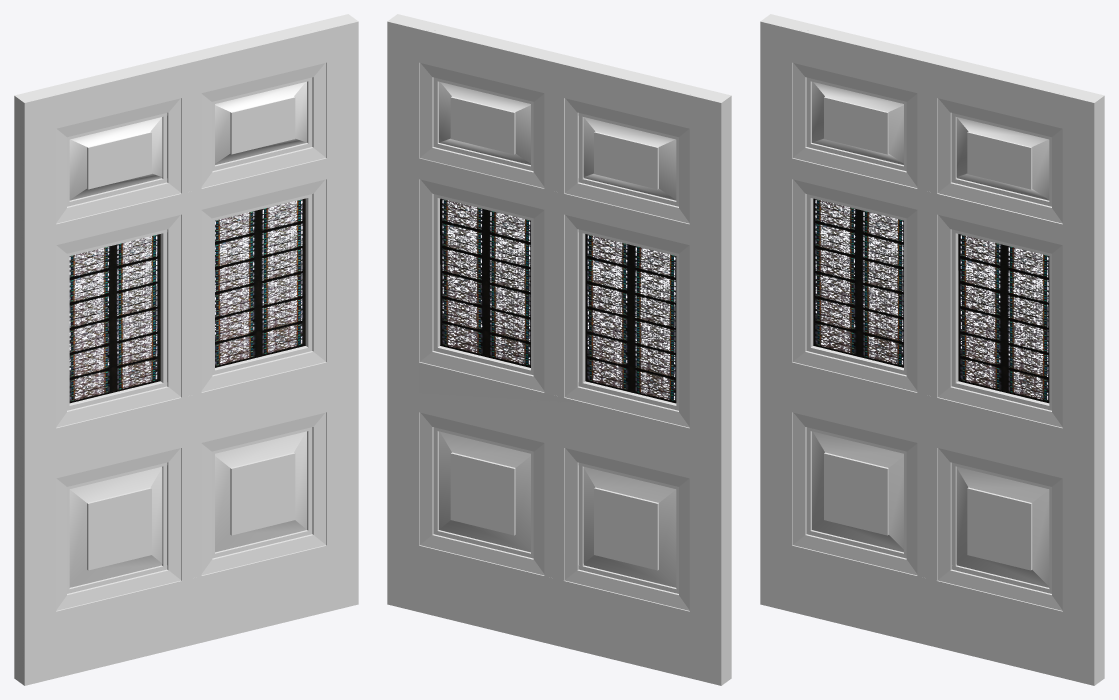
Rendered from 6PanelDoor03White.fbx.
3 views of the same model, side by side, from view 1: azimuth 30°, elevation 25°; view 2: azimuth 150°, elevation 25°; view 3: azimuth 330°, elevation 25° (orthographic).
Parts seen in each view (by area): view 1: default; view 2: default; view 3: default.
Part boxes in pixels (<box>): default: <box>14,14,358,685</box>; default: <box>387,14,731,685</box>; default: <box>760,14,1104,685</box>.
Bounding box in the file's own units: 129 × 215 × 6.93.
